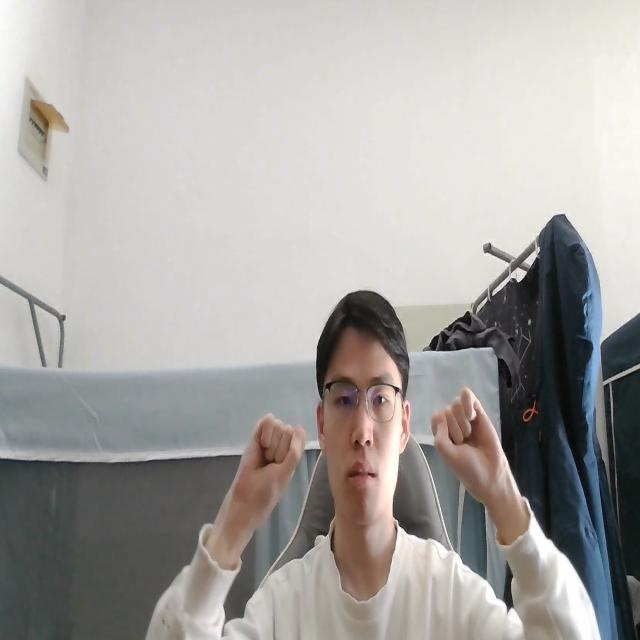ten: (213, 412, 309, 550), (429, 384, 516, 509)
